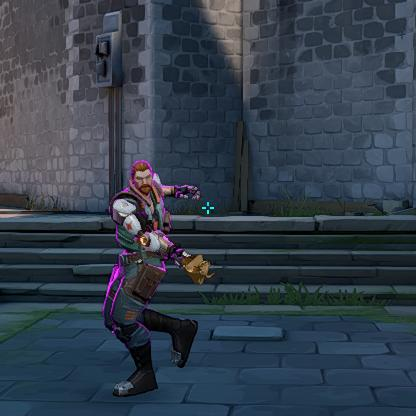enemyBody: (120, 198, 163, 255)
enemyHead: (133, 168, 151, 190)
